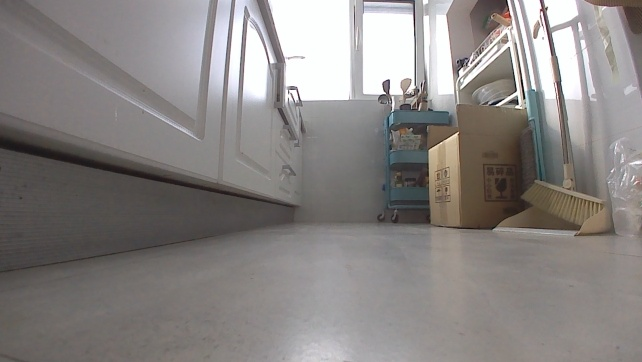cupboard: (0, 0, 309, 274)
